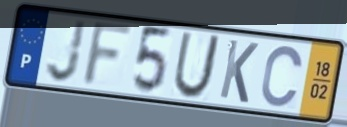5: (129, 23, 177, 98)
C: (258, 44, 306, 110)
F: (79, 20, 138, 91)
J: (44, 18, 89, 85)
K: (217, 37, 261, 106)
U: (171, 30, 223, 101)
